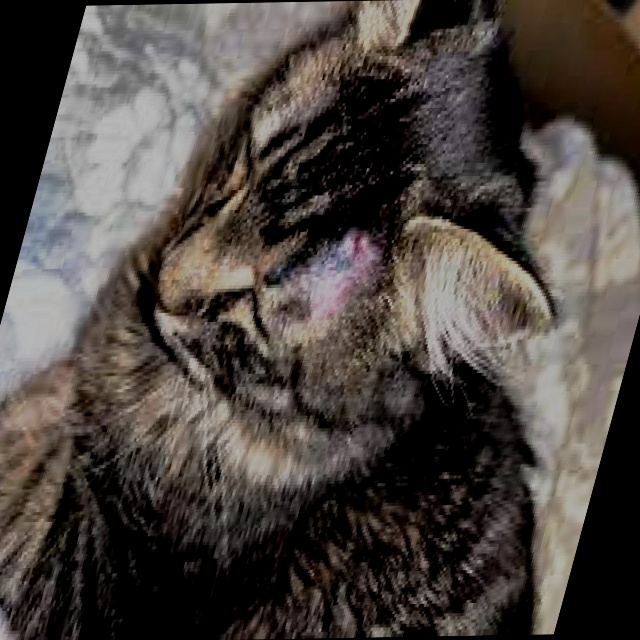ringworm: (274, 218, 396, 351)
